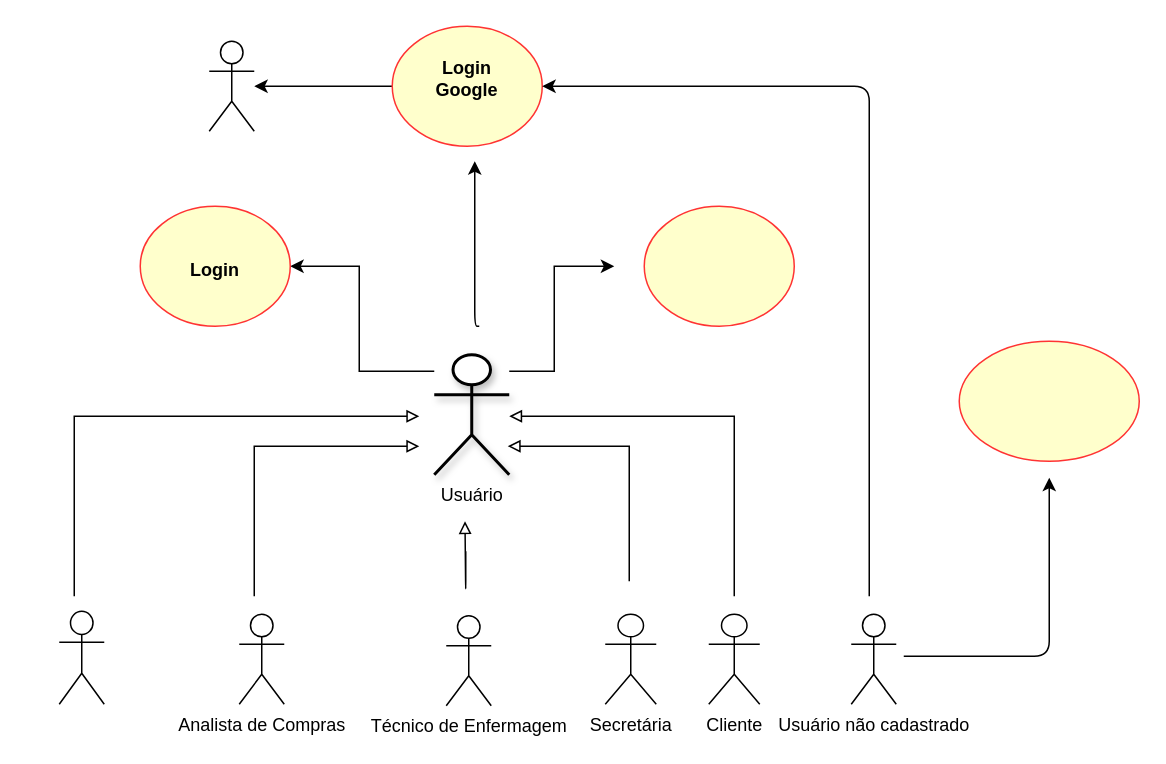
The diagram is 1166 pixels wide and 764 high, and some of its shapes have lost their labels. The shapes that lost their labels are listed below. From the top down, each one's centre as x and y in pixels, then its label:
(x=231, y=85): Google OAuth
(x=718, y=265): Logout
(x=1048, y=400): Registrar autonomamente
(x=81, y=657): Administrador
